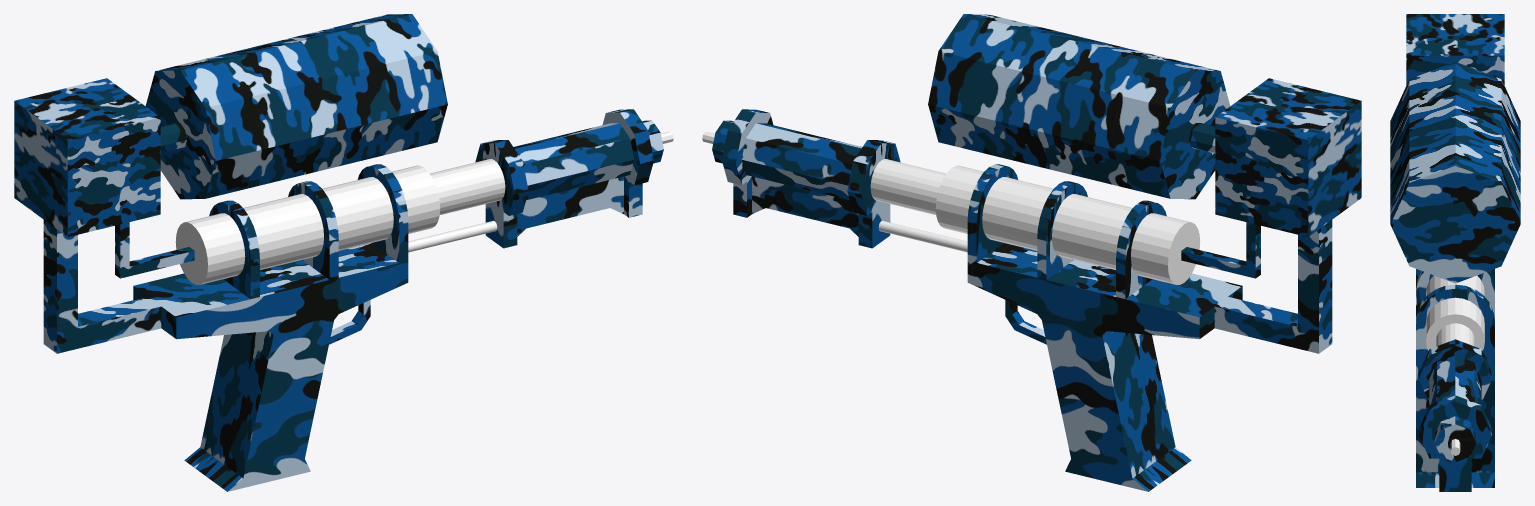
The model's file is Watergun_bluecamo.FBX.
The picture shows the model from 3 angles, left to right: view 1: azimuth 30°, elevation 25°; view 2: azimuth 150°, elevation 25°; view 3: azimuth 270°, elevation 25°; orthographic projection. The views are drawn at different scales.
Visible parts, largest first — view 1: Depósito, Estructura, Empuñadura, Cubo depósito, Cilindro; view 2: Depósito, Estructura, Empuñadura, Cubo depósito, Cilindro; view 3: Depósito, Estructura, Cubo depósito, Cilindro, Empuñadura.
Boxes of the visible parts, left/top/right/bottom form: Depósito: left=145, top=14, right=447, bottom=199; Estructura: left=43, top=109, right=663, bottom=353; Empuñadura: left=176, top=222, right=408, bottom=491; Cubo depósito: left=14, top=78, right=160, bottom=236; Cilindro: left=175, top=132, right=673, bottom=284; Depósito: left=928, top=14, right=1230, bottom=199; Estructura: left=712, top=109, right=1332, bottom=353; Empuñadura: left=967, top=222, right=1199, bottom=491; Cubo depósito: left=1215, top=78, right=1361, bottom=236; Cilindro: left=702, top=132, right=1200, bottom=284; Depósito: left=1390, top=62, right=1520, bottom=283; Estructura: left=1416, top=269, right=1494, bottom=491; Cubo depósito: left=1406, top=14, right=1504, bottom=85; Cilindro: left=1426, top=275, right=1484, bottom=455; Empuñadura: left=1416, top=380, right=1494, bottom=487.
Bounding box in the file's own units: 13.57 × 8.47 × 2.65.
2 materials, 1 textured.
